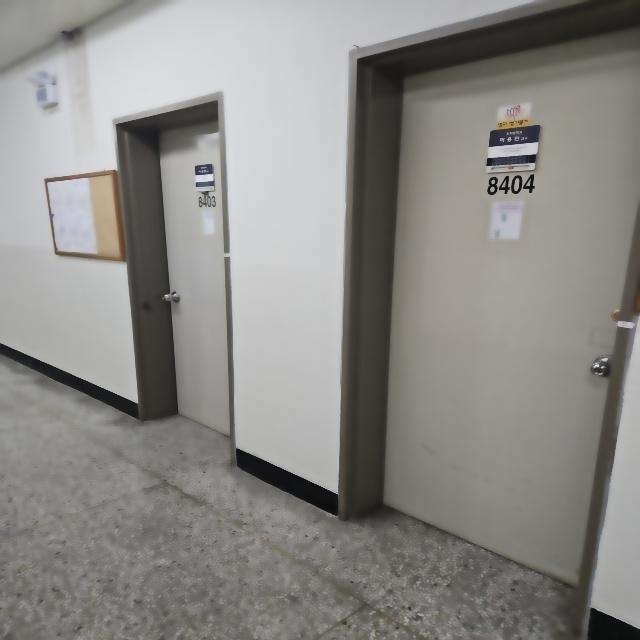door: (379, 27, 639, 591), (157, 119, 231, 436)
